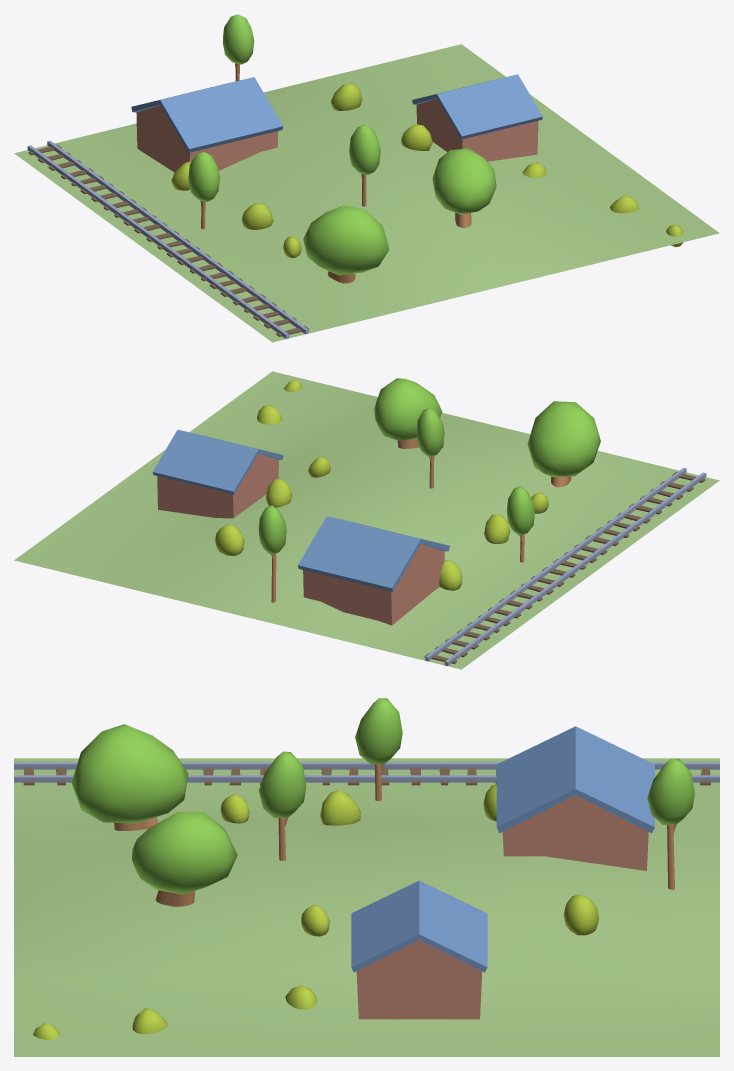
Rendered from EnvironmentRight.fbx.
3 views of the same model, one above another, from view 1: azimuth 30°, elevation 25°; view 2: azimuth 150°, elevation 25°; view 3: azimuth 270°, elevation 25° (orthographic). The views are drawn at different scales.
Parts seen in each view (by area): view 1: Icosphere_049; view 2: Icosphere_049; view 3: Icosphere_049.
Part boxes in pixels (<box>): Icosphere_049: <box>14,14,719,342</box>; Icosphere_049: <box>14,371,719,669</box>; Icosphere_049: <box>14,698,719,1056</box>.
Size of the model in its own units: 3000 by 851 by 3000.
